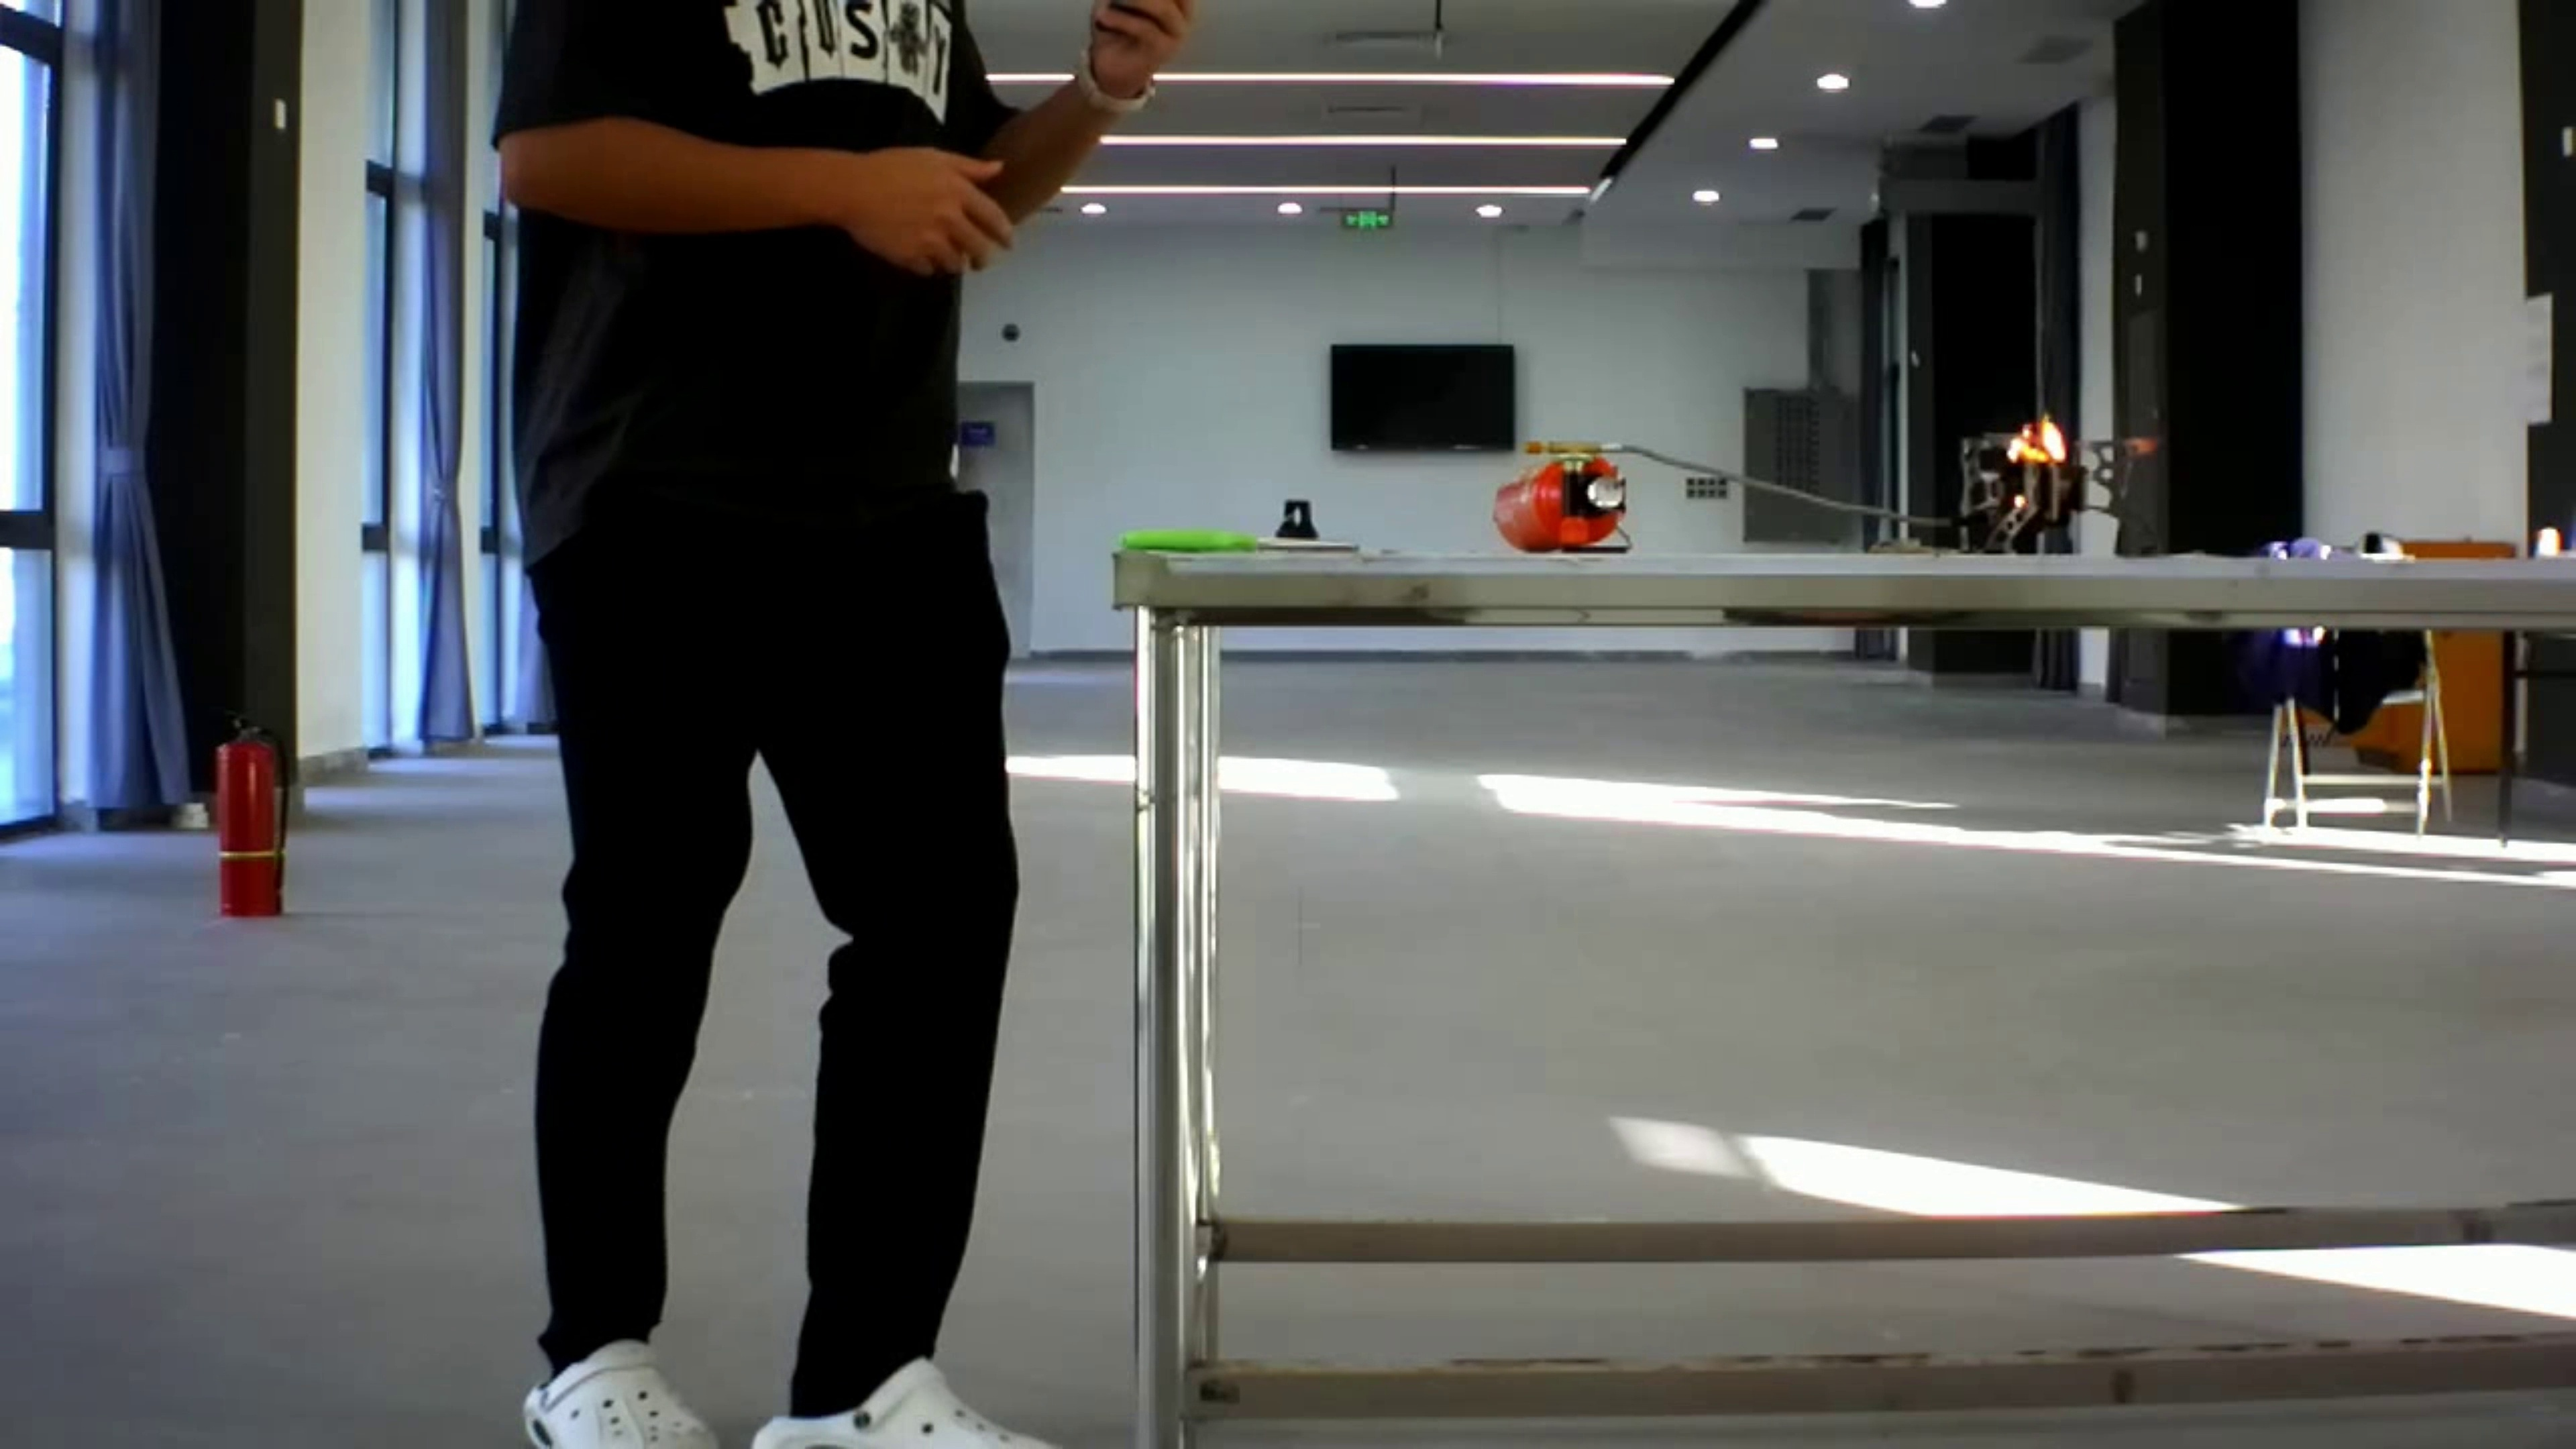Fire: (1994, 400, 2081, 481)
